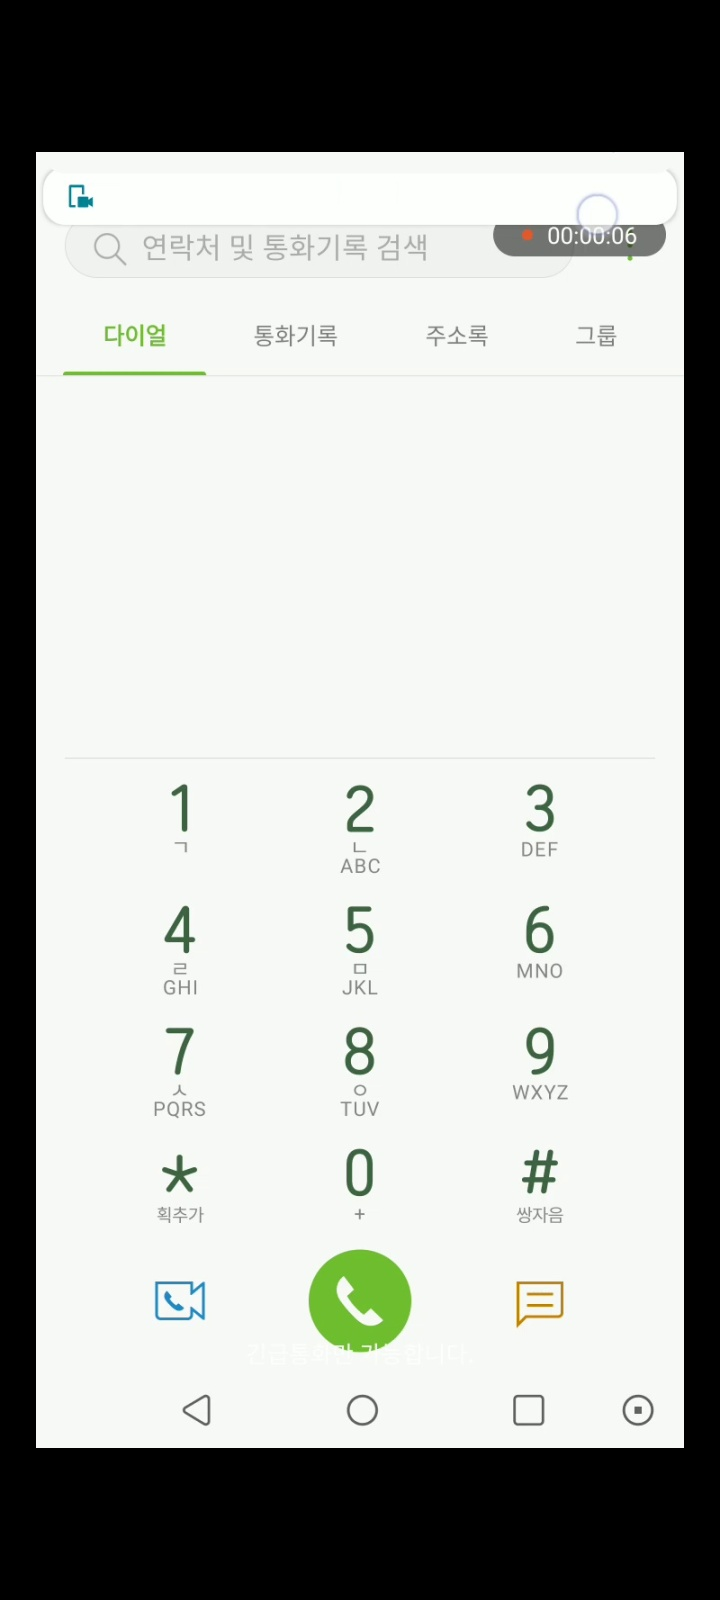Cursor: (576, 192, 621, 238)
